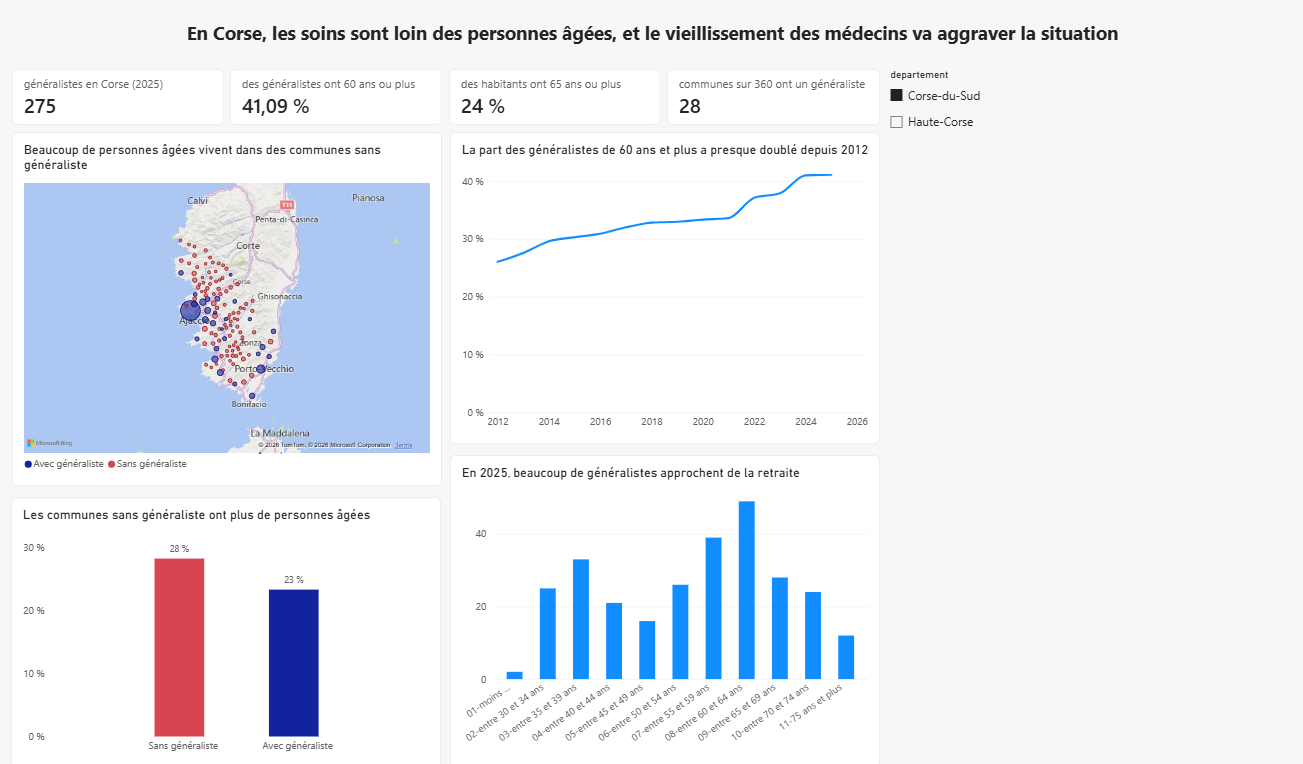

Layout of this report page (visuals, bound fields, positions):
{"tool":"powerbi","page":{"name":"Page 1","canvas":[1920,1080],"ordinal":0},"visuals":[{"type":"lineChart","title":"La part des généralistes de 60 ans et plus a presque doublé depuis 2012","fields":{"Category":["demographie.annee"],"Y":["demographie.% Generalistes 60+"]},"box":[0,61.3,932.3,300.5],"z":0},{"type":"cardVisual","fields":{"Data":["demographie.Generalistes"]},"box":[0,0,236.7,61.1],"z":1000},{"type":"cardVisual","fields":{"Data":["demographie.% Generalistes 60+"]},"box":[236.7,0,311.1,61.1],"z":2000},{"type":"cardVisual","fields":{"Data":["age_par_commune.% Habitants 65+"]},"box":[547.8,0,271.1,61.1],"z":3000},{"type":"cardVisual","title":"communes sur 360 ont un généraliste","fields":{"Data":["professionnels.Communes avec generaliste"]},"box":[818.9,0,310,61.1],"z":4000},{"type":"clusteredColumnChart","title":"En 2025, beaucoup de généralistes approchent de la retraite","fields":{"Category":["demographie.tranche_age"],"Y":["demographie.Generalistes par age"]},"box":[932.3,71.5,809.7,300.5],"z":5000},{"type":"map","title":"Beaucoup de personnes âgées vivent dans des communes sans généraliste","fields":{"Category":["communes.commune"],"Series":["communes.Acces generaliste"],"Size":["Sum(age_par_commune.pop65p)"],"X":["Avg(communes.longitude)"],"Y":["Avg(communes.latitude)"]},"box":[0,361.8,808.3,410],"z":6000},{"type":"clusteredColumnChart","title":"Les communes sans généraliste ont plus de personnes âgées","fields":{"Category":["communes.Acces generaliste"],"Y":["age_par_commune.% Habitants 65+"]},"box":[808.3,361.8,933.7,398.3],"z":6001}]}

Visuals, with their boxes on the page's 1920x1080 design canvas (x1, y1, x2, y2). These are canvas units, not pixel positions in the 1303x764 screenshot, which may show the page scaled, cropped or inside an application window:
"La part des généralistes de 60 ans et plus a presque doublé depuis 2012" lineChart: {"x1": 0, "y1": 61, "x2": 932, "y2": 362}
cardVisual - demographie.Generalistes: {"x1": 0, "y1": 0, "x2": 237, "y2": 61}
cardVisual - demographie.% Generalistes 60+: {"x1": 237, "y1": 0, "x2": 548, "y2": 61}
cardVisual - age_par_commune.% Habitants 65+: {"x1": 548, "y1": 0, "x2": 819, "y2": 61}
"communes sur 360 ont un généraliste" cardVisual: {"x1": 819, "y1": 0, "x2": 1129, "y2": 61}
"En 2025, beaucoup de généralistes approchent de la retraite" clusteredColumnChart: {"x1": 932, "y1": 72, "x2": 1742, "y2": 372}
"Beaucoup de personnes âgées vivent dans des communes sans généraliste" map: {"x1": 0, "y1": 362, "x2": 808, "y2": 772}
"Les communes sans généraliste ont plus de personnes âgées" clusteredColumnChart: {"x1": 808, "y1": 362, "x2": 1742, "y2": 760}
